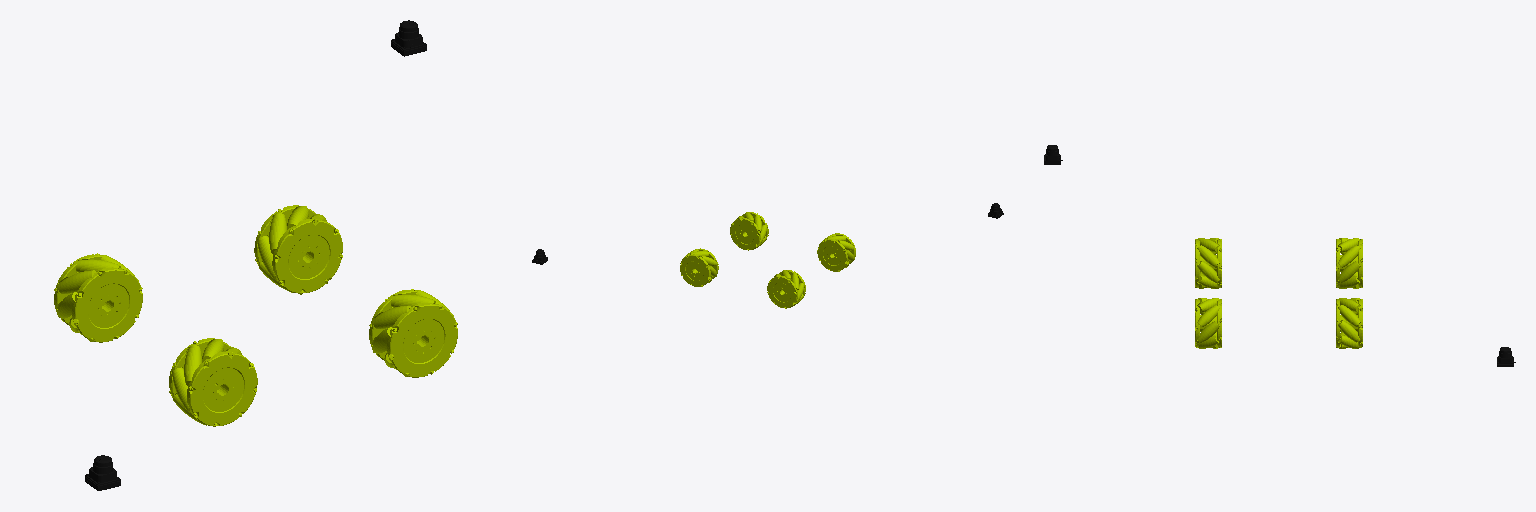
URDF robot description (agv):
<?xml version="1.0" encoding="utf-8"?>
<!-- This URDF was automatically created by SolidWorks to URDF Exporter! Originally created by [author] ([email redacted]) 
     Commit Version: 1.6.0-1-g15f4949  Build Version: 1.6.7594.29634
     For more information, please see http://wiki.ros.org/sw_urdf_exporter -->
<robot name="agv"> <!-- name changed -->
  <material name="frame_color">
    <color rgba="0.5 0.5 0.5 1" />
  </material>
    
  <material name="wheel_color">
    <color rgba="0.7 0.8 0.0 1" />
  </material>

  <material name="lidar_color">
    <color rgba="0.1 0.1 0.1 1" />
  </material>

  <link name="base_footprint"/> <!-- root link added -->

  <link name="base_link">
    <inertial>
      <origin
        xyz="0.0 0.0 0.0"
        rpy="0 0 0" />
      <mass value="30.0414558570331" />
      <inertia
        ixx="0.523789441005773"
        ixy="0.000606399487614046"
        ixz="3.78282636659352E-06"
        iyy="0.614587289833735"
        iyz="2.22135177280669E-06"
        izz="1.09112219495802" />
    </inertial>

    <visual name="visual">
      <origin
        xyz="0 0 0"
        rpy="0 0 0" />
      <geometry>
        <mesh filename="package://agv_description/meshes/AGV_FRAME.STL" />
      </geometry>
      <material name="frame_color"/>
    </visual>

    <collision name="collision">
      <origin
        xyz="0 0 0.155"
        rpy="0 0 0" />
      <geometry>
        <!-- <mesh filename="package://agv_description/meshes/AGV_FRAME.STL" /> -->
        <box size="0.9 0.8 0.23"/>
      </geometry>
    </collision>
  </link>

  <link name="front_left_wheel">
    <inertial>
      <origin
        xyz="3.4972E-07 -3.0069E-05 -1.0861E-07"
        rpy="0 0 0" />
      <mass value="1.9445" />
      <inertia
        ixx="0.0025998"
        ixy="1.0152E-09"
        ixz="4.9572E-09"
        iyy="0.004103"
        iyz="2.3451E-09"
        izz="0.002596" />
    </inertial>

    <visual name="visual">
      <origin
        xyz="0 0 0"
        rpy="0 0 0" />
      <geometry>
        <mesh filename="package://agv_description/meshes/WHEEL_FL.STL" />
      </geometry>
      <material name="wheel_color"/>
    </visual>

    <collision name="collision">
      <origin
        xyz="0 0 0"
        rpy="1.5708 0 0" />
      <geometry>
        <!-- <mesh filename="package://agv_description/meshes/WHEEL_FL.STL" /> -->
        <cylinder radius="0.1016" length="0.105"/>
      </geometry>
    </collision>
  </link>

  <link name="front_right_wheel">
    <inertial>
      <origin
        xyz="3.9273E-07 3.0338E-05 -1.702E-08"
        rpy="0 0 0" />
      <mass value="1.9445" />
      <inertia
        ixx="0.0025996"
        ixy="-2.1514E-10"
        ixz="1.1288E-09"
        iyy="0.0041027"
        iyz="-3.7002E-10"
        izz="0.0025958" />
    </inertial>

    <visual name="visual">
      <origin
        xyz="0 0 0"
        rpy="0 0 0" />
      <geometry>
        <mesh filename="package://agv_description/meshes/WHEEL_FR.STL" />
      </geometry>
      <material name="wheel_color"/>
    </visual>

    <collision name="collision">
      <origin
        xyz="0 0 0"
        rpy="1.5708 0 0" />
      <geometry>
        <!-- <mesh filename="package://agv_description/meshes/WHEEL_FR.STL" /> -->
        <cylinder radius="0.1016" length="0.105"/>
      </geometry>
    </collision>
  </link>

  <link name="back_left_wheel">
    <inertial>
      <origin
        xyz="3.9272E-07 3.0338E-05 -1.7043E-08"
        rpy="0 0 0" />
      <mass value="1.9445" />
      <inertia
        ixx="0.0025996"
        ixy="-2.1534E-10"
        ixz="1.1303E-09"
        iyy="0.0041027"
        iyz="-3.7031E-10"
        izz="0.0025958" />
    </inertial>

    <visual name="visual">
      <origin
        xyz="0 0 0"
        rpy="0 0 0" />
      <geometry>
        <mesh filename="package://agv_description/meshes/WHEEL_RL.STL" />
      </geometry>
      <material name="wheel_color"/>
    </visual>

    <collision name="collision">
      <origin
        xyz="0 0 0"
        rpy="1.5708 0 0" />
      <geometry>
        <!-- <mesh filename="package://agv_description/meshes/WHEEL_RL.STL" /> -->
        <cylinder radius="0.1016" length="0.105"/>
      </geometry>
    </collision>
  </link>

  <link name="back_right_wheel">
    <inertial>
      <origin
        xyz="3.4972E-07 -3.0069E-05 -1.0861E-07"
        rpy="0 0 0" />
      <mass value="1.9445" />
      <inertia
        ixx="0.0025998"
        ixy="9.0233E-10"
        ixz="5.1138E-09"
        iyy="0.004103"
        iyz="2.7176E-09"
        izz="0.002596" />
    </inertial>

    <visual name="visual">
      <origin
        xyz="0 0 0"
        rpy="0 0 0" />
      <geometry>
        <mesh filename="package://agv_description/meshes/WHEEL_RR.STL" />
      </geometry>
      <material name="wheel_color"/>
    </visual>

    <collision name="collision">
      <origin
        xyz="0 0 0"
        rpy="1.5708 0 0" />
      <geometry>
        <!-- <mesh filename="package://agv_description/meshes/WHEEL_RR.STL" /> -->
        <cylinder radius="0.1016" length="0.105"/>
      </geometry>
    </collision>
  </link>

  <link name="imu_link"/> <!-- added -->

  <link name="base_scan"/> <!-- added -->

  <link name="rplidar_r">
    <inertial> 
      <origin
        xyz="9.2203E-06 7.9132E-05 -0.025681"
        rpy="0 0 0" />
      <mass value="0.053604" />
      <inertia
        ixx="2.2348E-05"
        ixy="9.4158E-08"
        ixz="-2.1314E-08"
        iyy="2.2179E-05"
        iyz="-5.2609E-09"
        izz="4.06E-05" />
    </inertial>

    <visual name="visual">
      <origin
        xyz="0 0 0"
        rpy="0 0 0" />
      <geometry>
        <mesh filename="package://agv_description/meshes/RPLidar_FL.STL" />
      </geometry>
      <material name="lidar_color"/>
    </visual>

    <collision name="collision">
      <origin
        xyz="0 0 0"
        rpy="0 0 0" />
      <geometry>
        <mesh filename="package://agv_description/meshes/RPLidar_FL.STL" />
      </geometry>
    </collision>
  </link>

  <link name="rplidar_l">
    <inertial>
      <origin xyz="-9.2203E-06 -7.9132E-05 -0.025681" rpy="0 0 0" />
      <mass value="0.053604" />
      <inertia
        ixx="2.2348E-05"
        ixy="9.4158E-08"
        ixz="2.1314E-08"
        iyy="2.2179E-05"
        iyz="5.2609E-09"
        izz="4.06E-05" />
    </inertial>

    <visual name="visual">
      <origin
        xyz="0 0 0"
        rpy="0 0 0" />
      <geometry>
        <mesh filename="package://agv_description/meshes/RPLidar_RR.STL" />
      </geometry>
      <material name="lidar_color"/>
    </visual>

    <collision name="collision">
      <origin
        xyz="0 0 0"
        rpy="0 0 0" />
      <geometry>
        <mesh filename="package://agv_description/meshes/RPLidar_RR.STL" />
      </geometry>
    </collision>
  </link>

  <!-- [JOINT] -->
  <joint name="JOINT_BASE" type="fixed">
    <origin 
      xyz="0.0 0.0 0.0"
      rpy="0.0 0.0 0.0" />
    <parent link="base_footprint"/>
    <child link="base_link"/>
  </joint>

  <joint name="JOINT_WH_FL" type="continuous">
    <origin
      xyz="0.282 0.2797 0.10363"
      rpy="0 -0.030032 0" />
    <parent link="base_link" />
    <child link="front_left_wheel" />
    <axis xyz="0 1 0" />
  </joint>

  <joint name="JOINT_WH_FR" type="continuous">
    <origin
      xyz="0.282 -0.2799 0.10363"
      rpy="0 0 0" />
    <parent link="base_link" />
    <child link="front_right_wheel" />
    <axis xyz="0 1 0" />
  </joint>

  <joint name="JOINT_WH_RL" type="continuous">
    <origin
      xyz="-0.282 0.2797 0.10363"
      rpy="0 0 0" />
    <parent link="base_link" />
    <child link="back_left_wheel" />
    <axis xyz="0 1 0" />
  </joint>

  <joint name="JOINT_WH_RR" type="continuous">
    <origin
      xyz="-0.282 -0.2799 0.10363"
      rpy="0 0 0" />
    <parent link="base_link" />
    <child link="back_right_wheel" />
    <axis xyz="0 1 0" />
  </joint>

  <joint name="JOINT_BASE_IMU" type="fixed">
    <origin 
      xyz="0.0 0.0 0.0"
      rpy="0.0 0.0 0.0" />
    <parent link="base_link"/> <!-- connected to 'base_link' -->
    <child link="imu_link"/>
  </joint>

  <joint name="JOINT_BASE_SCAN" type="fixed">
    <origin
      xyz="0.0 0.0 0.28046"
      rpy="0.0 0.0 0.0" />
    <parent link="base_link" /> <!-- connected to 'base_link' -->
    <child link="base_scan" />
  </joint>

  <joint name="JOINT_RPLidar_FL" type="fixed"> 
    <origin
      xyz="0.95 0.9 0.0"
      rpy="0 0 1.570796" /> <!-- Orientation fixed -->
    <parent link="base_scan" /> <!-- connected to 'base_scan' -->
    <child link="rplidar_l" /> 
    <!-- 'fixed' joint: 'axis' attribute not necessary -->
  </joint>

  <joint name="JOINT_RPLidar_RR" type="fixed"> 
    <origin
      xyz="-0.95 -0.9 0.0"
      rpy="0 0 -1.570796" />
    <parent link="base_scan" /> <!-- connected to 'base_scan' -->
    <child link="rplidar_r" /> 
    <!-- 'fixed' joint: 'axis' attribute not necessary -->
  </joint>

  <!-- [SIMULATION PLUGINS] -->
  <gazebo>
    <plugin name="test" filename="libgazebo_ros_planar_move.so">
        <commandTopic>cmd_vel</commandTopic>
        <odometryTopic>odom</odometryTopic>
        <odometryFrame>odom</odometryFrame>
        <odometryRate>50.0</odometryRate>
        <robotBaseFrame>base_footprint</robotBaseFrame>
    </plugin>
  </gazebo>

  <gazebo reference="front_left_wheel">
      <mu1>0.1</mu1>
      <!-- <mu2>0.1</mu2> -->
      <fdir1>1 1 0</fdir1>
      <!-- fdir2? -->
  </gazebo>

  <gazebo reference="front_right_wheel">
      <mu1>0.1</mu1>
      <!-- <mu2>0.1</mu2> -->
      <fdir1>1 1 0</fdir1>
  </gazebo>

  <gazebo refernece="back_left_wheel">
      <mu1>0.1</mu1>
      <!-- <mu2>0.1</mu2> -->
      <fdir1>1 1 0</fdir1>
  </gazebo>

  <gazebo reference="back_right_wheel">
      <mu1>0.1</mu1>
      <!-- <mu2>0.1</mu2> -->
      <fdir1>1 1 0</fdir1>
  </gazebo>

  <gazebo reference="imu_link">
      <sensor type="imu" name="imu">
          <always_on>true</always_on>
          <visualize>false</visualize>
          <plugin filename="libgazebo_ros_imu_sensor.so" name="imu_plugin">
              <alwaysOn>true</alwaysOn>
              <topicName>imu</topicName>
              <bodyName>imu_link</bodyName>
              <frameName>imu_link</frameName>
              <!-- <serviceName>imu_service</serviceName> -->
              <updateRateHZ>50.0</updateRateHZ>
              <gaussianNoise>0.0</gaussianNoise>
              <imu>
                  <noise>
                      <type>gaussian</type>
                      <rate>
                          <mean>0.0</mean>
                          <stddev>2e-4</stddev>
                          <bias_mean>0.0000075</bias_mean>
                          <bias_stddev>0.0000008</bias_stddev>
                      </rate>
                      <accel>
                          <mean>0.0</mean>
                          <stddev>1.7e-2</stddev>
                          <bias_mean>0.1</bias_mean>
                          <bias_stddev>0.001</bias_stddev>
                      </accel>
                  </noise>
              </imu>
          </plugin>
      </sensor>
      <material>Gazebo/FlatBlack</material>
  </gazebo>

  <gazebo reference="rplidar_l">
      <sensor type="ray" name="rplidar_l">
          <pose>0 0 0 0 0 0</pose>
          <visualize>true</visualize>
          <update_rate>10</update_rate>
          <ray>
              <scan>
                  <horizontal>
                      <samples>360</samples>
                      <resolution>1.916666667</resolution>
                      <min_angle>1.5707</min_angle>
                      <max_angle>6.2830</max_angle>
                  </horizontal>
              </scan>
              <range>
                  <min>0.1</min>
                  <max>40.0</max>
                  <resolution>0.03</resolution>
              </range>
              <noise>
                  <type>gaussian</type>
                  <mean>0.0</mean>
                  <stddev>0.01</stddev>
              </noise>
          </ray>
          <plugin name="rplidar_l" filename="libgazebo_ros_laser.so">
              <topicName>/scan_1</topicName>
              <frameName>rplidar_l</frameName>
          </plugin>
      </sensor>
  </gazebo>

  <gazebo reference="rplidar_r">
      <sensor type="ray" name="rplidar_r">
          <pose>0 0 0 0 0 0</pose>
          <visualize>true</visualize>
          <update_rate>10</update_rate>
          <ray>
              <scan>
                  <horizontal>
                      <samples>360</samples>
                      <resolution>1.916666667</resolution>
                      <min_angle>1.5707</min_angle>
                      <max_angle>6.2830</max_angle>
                  </horizontal>
              </scan>
              <range>
                  <min>0.1</min>
                  <max>40.0</max>
                  <resolution>0.03</resolution>
              </range>
              <noise>
                  <type>gaussian</type>
                  <mean>0.0</mean>
                  <stddev>0.01</stddev>
              </noise>
          </ray>
          <plugin name="rplidar_r" filename="libgazebo_ros_laser.so">
              <topicName>/scan_2</topicName>
              <frameName>rplidar_r</frameName>
          </plugin>
      </sensor>
  </gazebo>
</robot>

--- Facts derived from the render (not from the file) ---
Views: 3 orthographic renders of the robot side by side, from view 1: azimuth 30°, elevation 25°; view 2: azimuth 150°, elevation 25°; view 3: azimuth 270°, elevation 25°.
Robot: agv — 10 links, 9 joints (4 continuous, 5 fixed); root link base_footprint; default pose: all joints at 0.
Links seen in each view (by area): view 1: back_left_wheel, front_right_wheel, back_right_wheel, front_left_wheel, rplidar_r, rplidar_l; view 2: back_left_wheel, front_left_wheel, back_right_wheel, front_right_wheel; view 3: front_left_wheel, back_right_wheel, front_right_wheel, back_left_wheel.
Boxes of the visible links, bbox=[...] form: back_left_wheel: bbox=[54, 253, 142, 342]; front_right_wheel: bbox=[369, 289, 457, 377]; back_right_wheel: bbox=[169, 338, 257, 426]; front_left_wheel: bbox=[254, 205, 342, 294]; rplidar_r: bbox=[85, 455, 120, 490]; rplidar_l: bbox=[391, 20, 426, 56]; back_left_wheel: bbox=[767, 270, 805, 308]; front_left_wheel: bbox=[680, 248, 718, 286]; back_right_wheel: bbox=[817, 233, 855, 271]; front_right_wheel: bbox=[730, 212, 768, 250]; front_left_wheel: bbox=[1336, 298, 1362, 348]; back_right_wheel: bbox=[1195, 238, 1221, 288]; front_right_wheel: bbox=[1195, 298, 1221, 348]; back_left_wheel: bbox=[1336, 238, 1362, 288].
Bounding box of the posed robot: 1.96 × 1.87 × 0.3036 m (x, y, z).
Meshes: 7 distinct files referenced, 6 mesh visuals loaded (6 binary STL); not drawn: 1 (reference not matched to a file when rendering).
